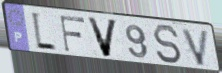9: (124, 24, 149, 60)
F: (59, 15, 87, 54)
L: (30, 11, 59, 54)
S: (151, 24, 184, 66)
V: (85, 16, 120, 59), (180, 27, 211, 68)
